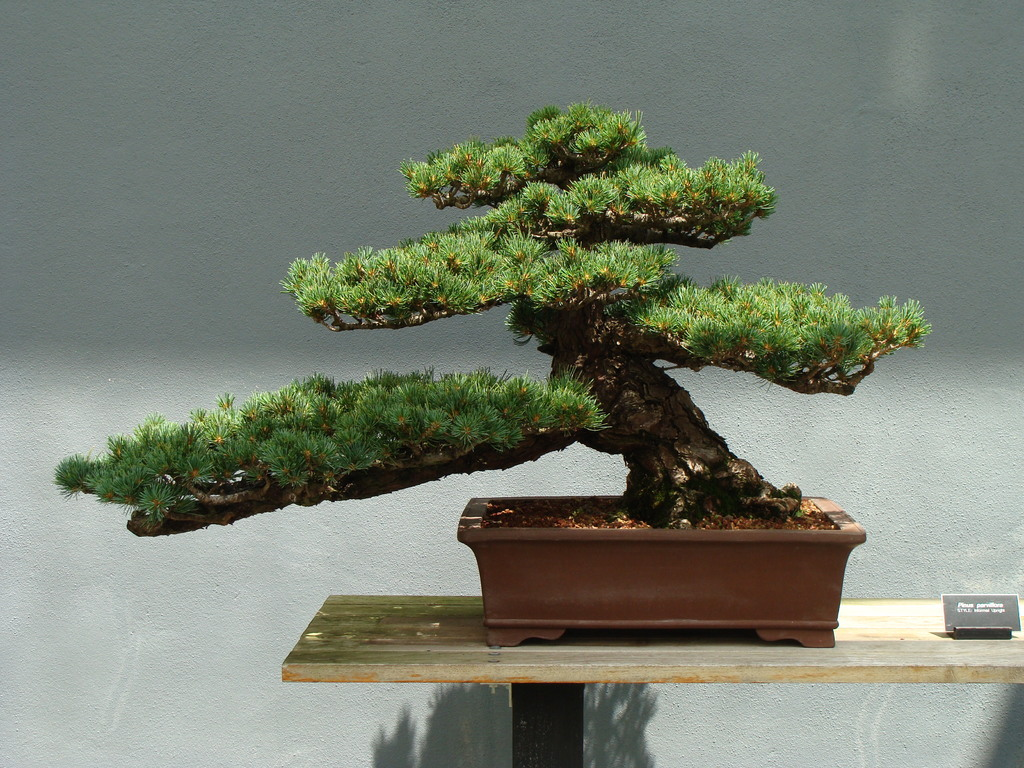Tree: (47, 97, 933, 538)
